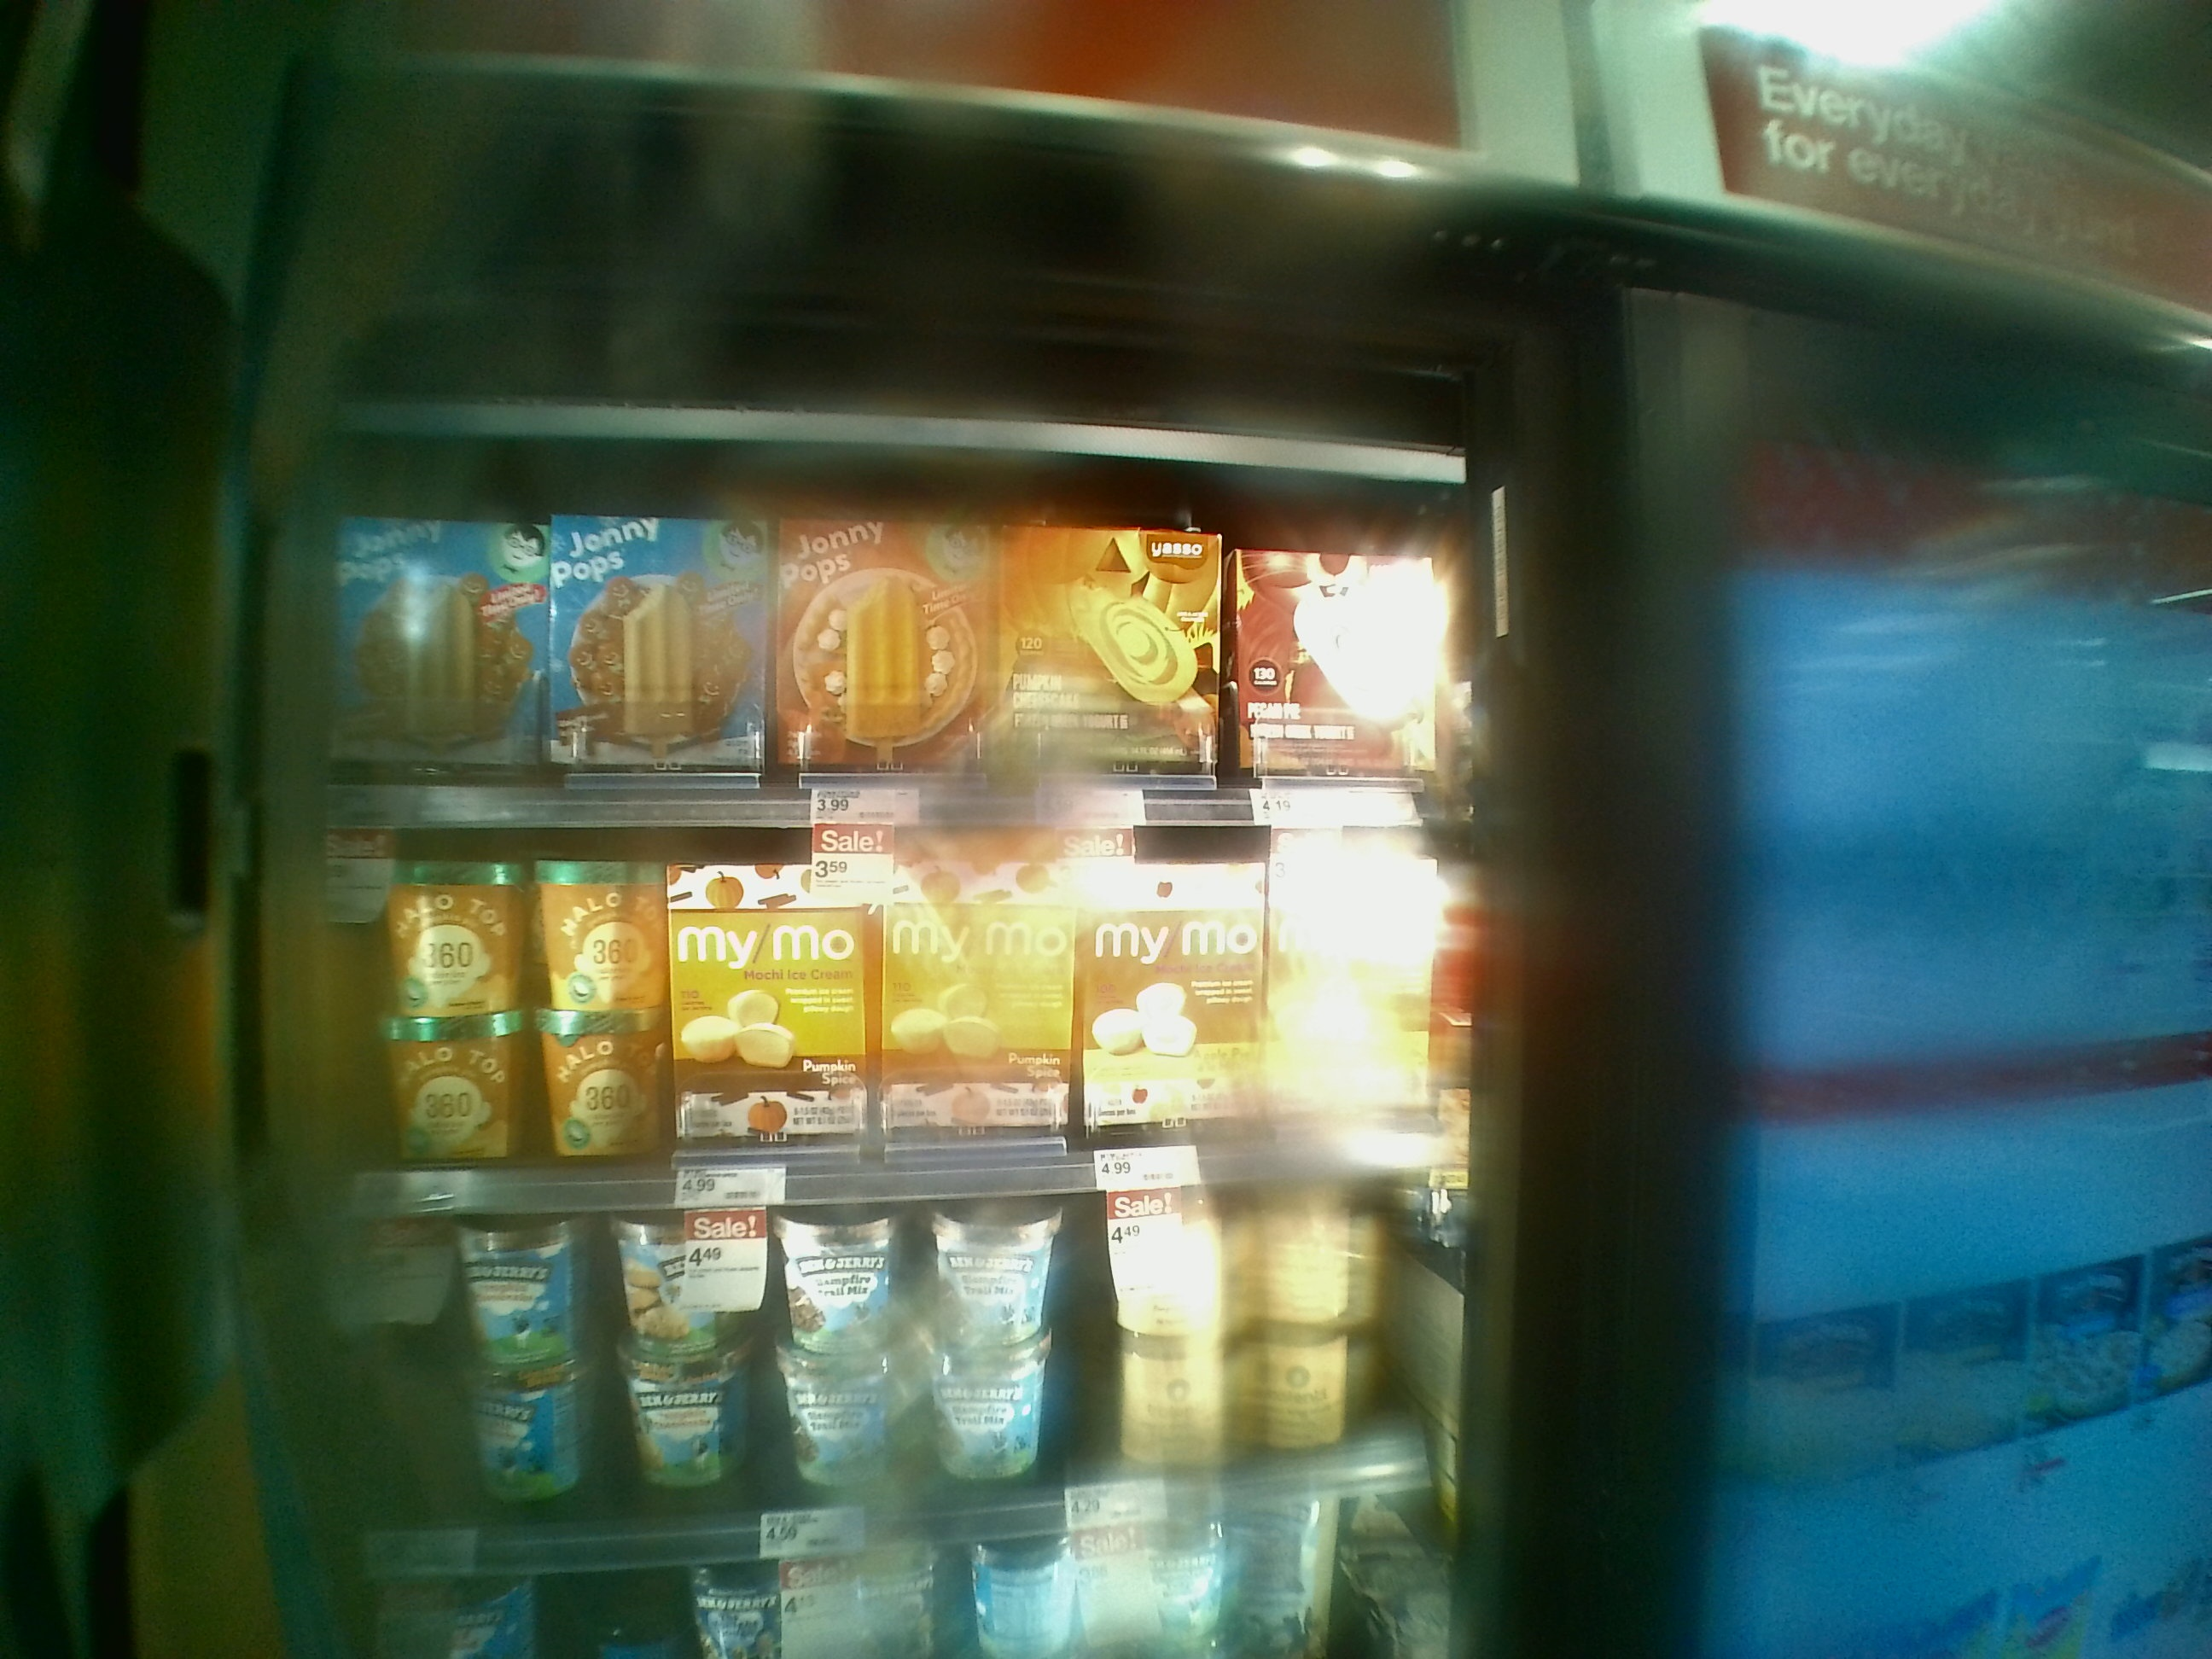shelf: (273, 1169, 1446, 1565), (270, 802, 1468, 1176), (289, 448, 1474, 821)
